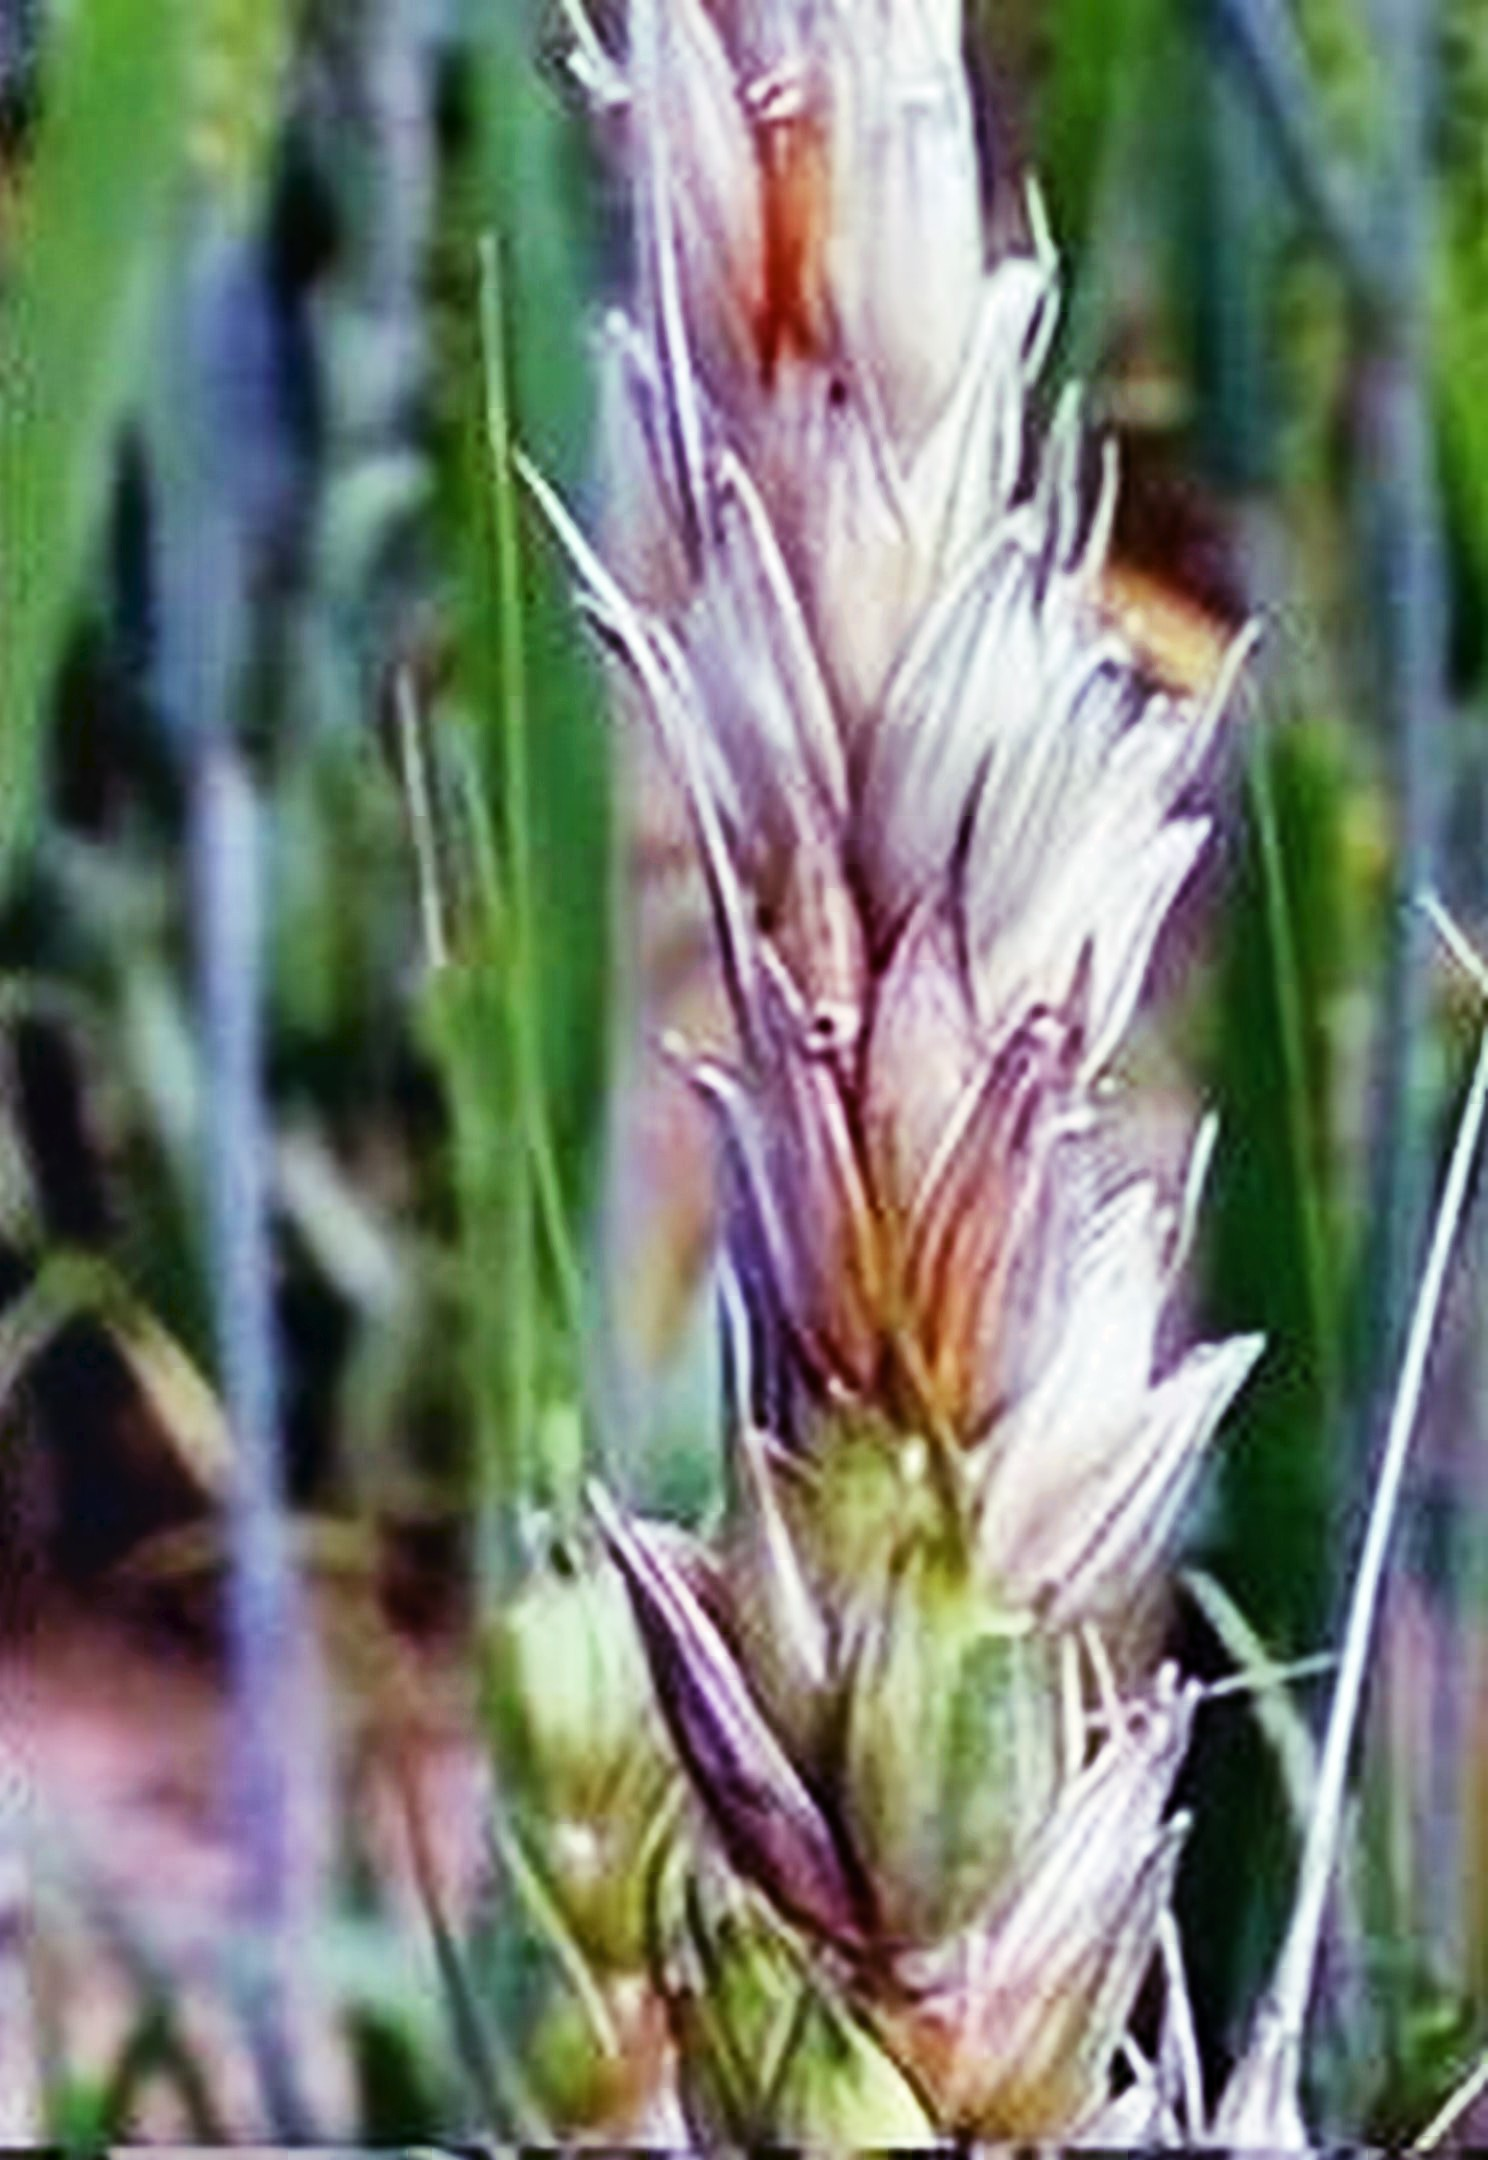Wheat scab: (435, 230, 1262, 2157)
